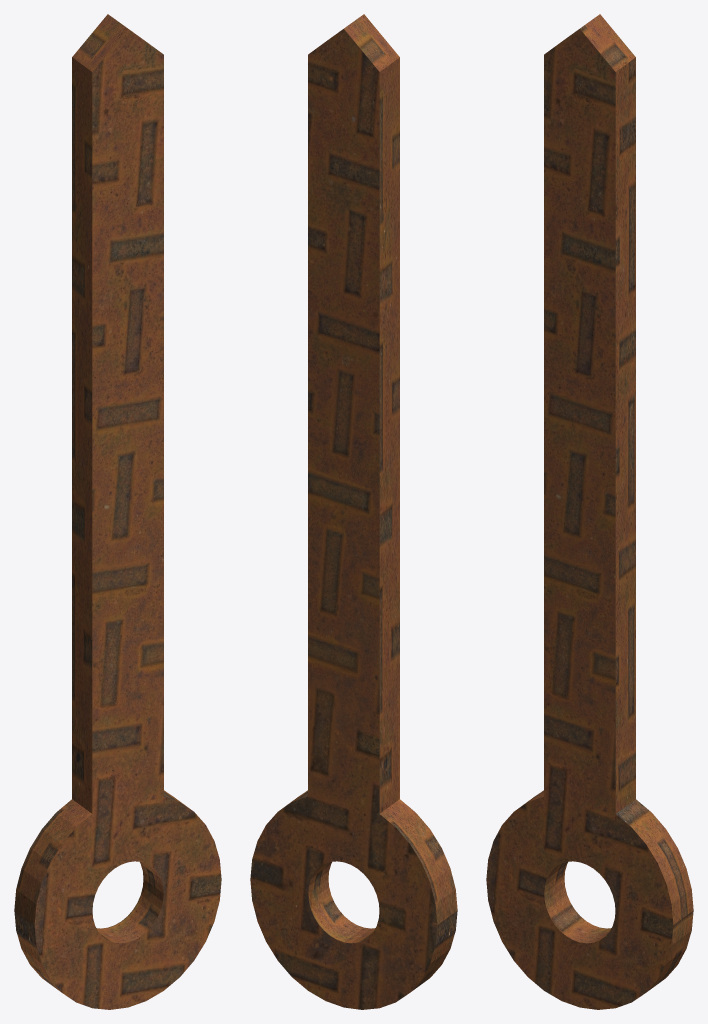
Rendered from hour.dae.
3 views of the same model, side by side, from view 1: azimuth 30°, elevation 25°; view 2: azimuth 150°, elevation 25°; view 3: azimuth 330°, elevation 25° (orthographic).
Visible parts, largest first — view 1: Circle; view 2: Circle; view 3: Circle.
Part boxes in pixels (<box>): Circle: <box>14,14,221,1009</box>; Circle: <box>250,14,457,1009</box>; Circle: <box>486,14,693,1009</box>.
Size of the model in its own units: 8 by 1.5 by 40.
